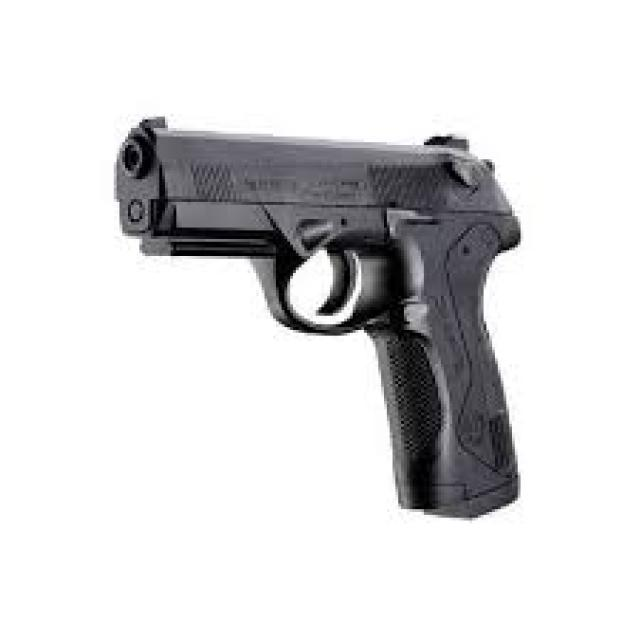pistol: (103, 110, 530, 525)
